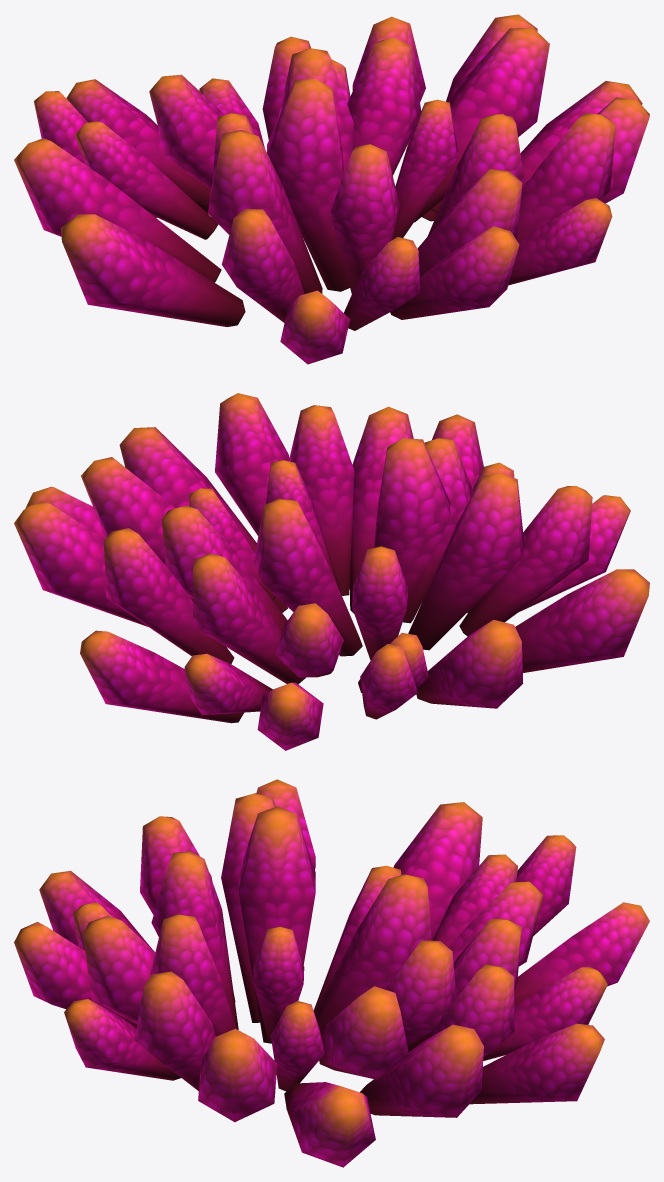
File: Coral_11d.FBX
3 views of the same model, one above another, from view 1: azimuth 30°, elevation 25°; view 2: azimuth 150°, elevation 25°; view 3: azimuth 270°, elevation 25° (orthographic). The views are drawn at different scales.
Parts seen in each view (by area): view 1: Coral_11d; view 2: Coral_11d; view 3: Coral_11d.
Boxes of the visible parts, bbox=[...] form: Coral_11d: bbox=[14, 14, 649, 364]; Coral_11d: bbox=[14, 393, 649, 750]; Coral_11d: bbox=[14, 779, 649, 1167].
Size of the model in its own units: 26.88 by 10.37 by 23.94.
